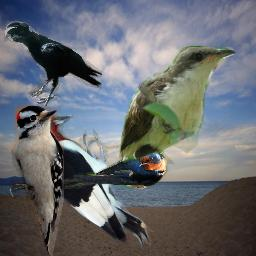Crow: (4, 21, 102, 106)
Cuckoo: (117, 45, 235, 164)
Swallow: (62, 147, 168, 189)
Woodpecker: (28, 112, 154, 248), (10, 105, 64, 256)
